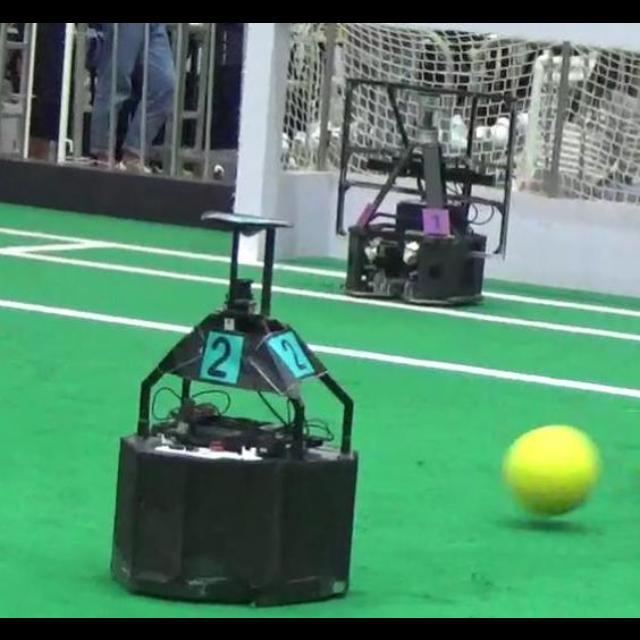ball: (503, 425, 598, 513)
goal: (230, 22, 289, 260)
robot: (111, 212, 358, 604), (338, 78, 516, 303)
